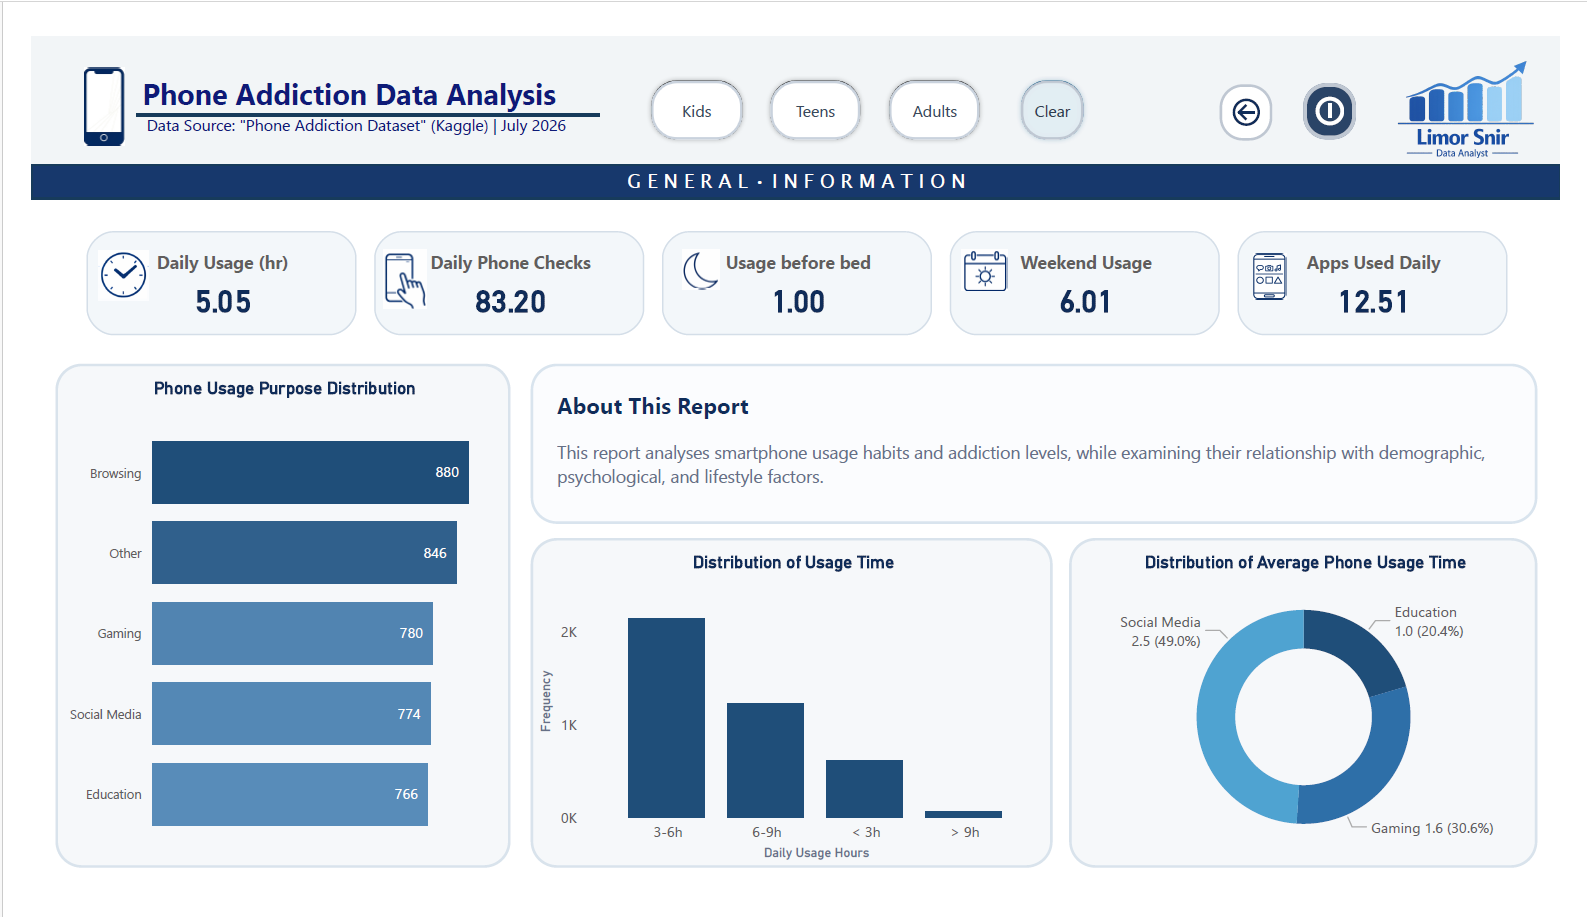

The page's visual inventory and layout, read from the dashboard file:
{"tool":"powerbi","page":{"name":"GENERAL INFORMATION","canvas":[1280,720],"ordinal":0},"visuals":[{"type":"cardVisual","fields":{"Data":["Avg(phone_addiction_dataset.Daily_Usage_Hours)","Avg(phone_addiction_dataset.Phone_Checks_Per_Day)","Avg(phone_addiction_dataset.Screen_Time_Before_Bed)","Avg(phone_addiction_dataset.Weekend_Usage_Hours)","Avg(phone_addiction_dataset.Apps_Used_Daily)"]},"box":[41.2,107.5,1203.8,158.8],"z":1000},{"type":"image","box":[43,179.3,66.8,51.5],"z":3000},{"type":"donutChart","title":"Distribution of Average  Phone Usage Time","fields":{"Y":["Avg(phone_addiction_dataset.Time_on_Education)","Avg(phone_addiction_dataset.Time_on_Gaming)","Avg(phone_addiction_dataset.Time_on_Social_Media)"]},"box":[868.8,425,392.5,276.2],"z":4000},{"type":"image","box":[218.3,177.9,189.2,59.8],"z":8000},{"type":"image","box":[774.3,169.1,48.1,63],"z":12000},{"type":"clusteredBarChart","title":"Phone Usage Purpose Distribution","fields":{"Category":["phone_addiction_dataset.Phone_Usage_Purpose"],"Y":["CountNonNull(phone_addiction_dataset.Index)"]},"box":[20,278.8,381.2,422.5],"z":16000},{"type":"image","box":[959.8,182.4,153,47.3],"z":17000},{"type":"clusteredColumnChart","title":"Distribution of Usage Time","fields":{"Category":["phone_addiction_dataset.Daily Hours Group"],"Y":["CountNonNull(phone_addiction_dataset.Index)"]},"box":[417.5,425,437.5,276.2],"z":18000},{"type":"image","box":[497.9,177.9,123.8,44.5],"z":19000},{"type":"textbox","box":[417.5,278.8,843.8,133.8],"z":21000},{"type":"shape","box":[5.6,79.3,1274.4,71],"z":22000},{"type":"textbox","title":"text box Title","box":[0,5,1280,108.8],"z":23000},{"type":"shape","box":[87.7,0,388.2,140.5],"z":24000},{"type":"image","box":[8.6,26.1,104.3,75.1],"z":25000},{"type":"image","box":[1129.7,18.1,141.9,93.2],"z":26000},{"type":"shape","title":"Page Title","box":[0,112.1,1280.5,28.7],"z":28000},{"type":"shape","box":[614.6,37.6,83.2,57.7],"z":29000},{"type":"shape","box":[515.3,37.6,83.2,57.7],"z":30000},{"type":"actionButton","box":[825,38.3,60,56.7],"z":31000},{"type":"shape","box":[715.3,37.6,83.2,57.7],"z":32000},{"type":"actionButton","box":[994.8,44.5,44.5,47.3],"z":33000},{"type":"actionButton","box":[1065,44,44,47],"z":34000}]}

Visuals, with their boxes in screenshot pixels (x1, y1, x2, y2), scaled from the page's 1280x720 canvas onto the 1587x917 screenshot:
cardVisual - Avg(phone_addiction_dataset.Daily_Usage_Hours) x Avg(phone_addiction_dataset.Phone_Checks_Per_Day): crop(51, 137, 1544, 339)
image: crop(53, 228, 136, 294)
"Distribution of Average  Phone Usage Time" donutChart: crop(1077, 541, 1564, 893)
image: crop(271, 227, 505, 303)
image: crop(960, 215, 1020, 296)
"Phone Usage Purpose Distribution" clusteredBarChart: crop(25, 355, 497, 893)
image: crop(1190, 232, 1380, 293)
"Distribution of Usage Time" clusteredColumnChart: crop(518, 541, 1060, 893)
image: crop(617, 227, 771, 283)
textbox: crop(518, 355, 1564, 525)
shape: crop(7, 101, 1586, 191)
"text box Title" textbox: crop(0, 6, 1586, 145)
shape: crop(109, 0, 590, 179)
image: crop(11, 33, 140, 129)
image: crop(1401, 23, 1577, 142)
"Page Title" shape: crop(0, 143, 1586, 179)
shape: crop(762, 48, 865, 121)
shape: crop(639, 48, 742, 121)
actionButton: crop(1023, 49, 1097, 121)
shape: crop(887, 48, 990, 121)
actionButton: crop(1233, 57, 1289, 117)
actionButton: crop(1320, 56, 1375, 116)
